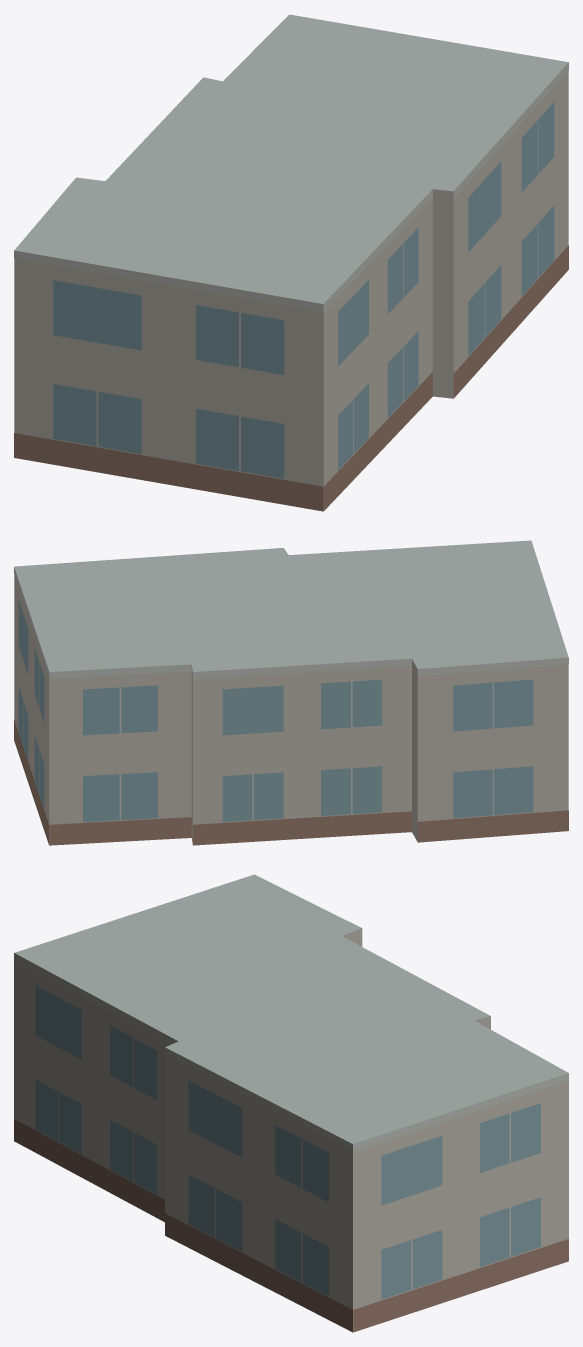
Rendered from survey-upis-32654310.glb.
3 renders of one model, top to bottom at view 1: azimuth 30°, elevation 25°; view 2: azimuth 150°, elevation 25°; view 3: azimuth 270°, elevation 25°, orthographic. The views are drawn at different scales.
Visible parts, largest first — view 1: survey-upis-32654310.tmp; view 2: survey-upis-32654310.tmp; view 3: survey-upis-32654310.tmp.
Boxes of the visible parts, x1,y1,x2,y2 form: survey-upis-32654310.tmp: [14, 14, 568, 511]; survey-upis-32654310.tmp: [14, 540, 568, 845]; survey-upis-32654310.tmp: [14, 874, 568, 1332].
Size of the model in its own units: 18.75 by 6.1 by 16.29.
